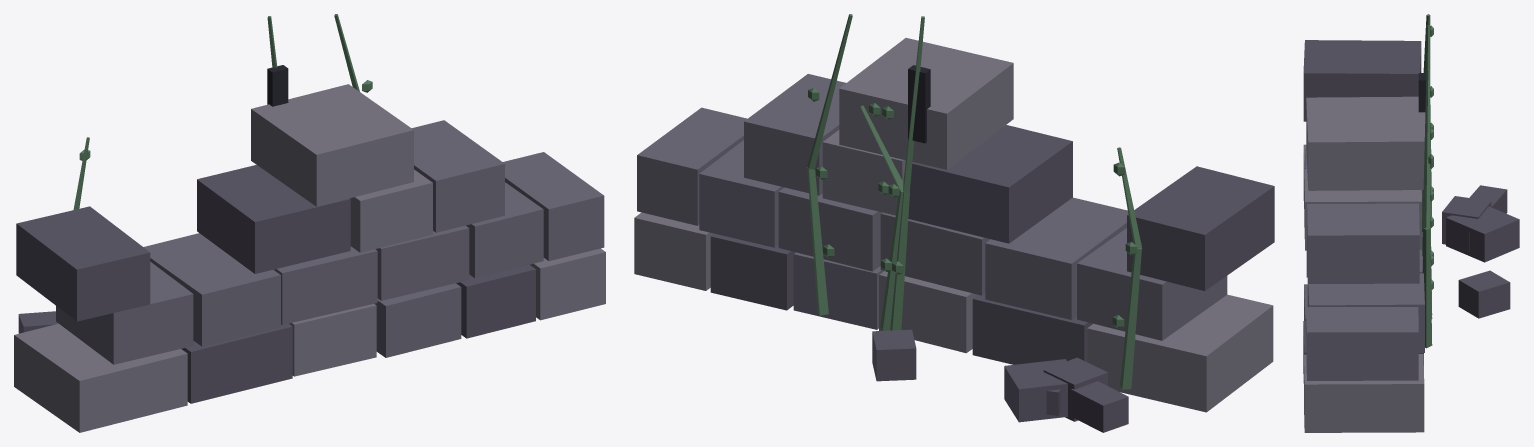
Rendered from castle_wall_2.glb.
3 views of the same model, side by side, from view 1: azimuth 30°, elevation 25°; view 2: azimuth 150°, elevation 25°; view 3: azimuth 270°, elevation 25° (orthographic). The views are drawn at different scales.
Parts seen in each view (by area): view 1: castle_wall_2; view 2: castle_wall_2; view 3: castle_wall_2.
Boxes of the visible parts, x1,y1,x2,y2 form: castle_wall_2: (14,14,605,432); castle_wall_2: (634,14,1274,432); castle_wall_2: (1303,14,1519,432).
Size of the model in its own units: 5.97 by 3.31 by 2.27.
